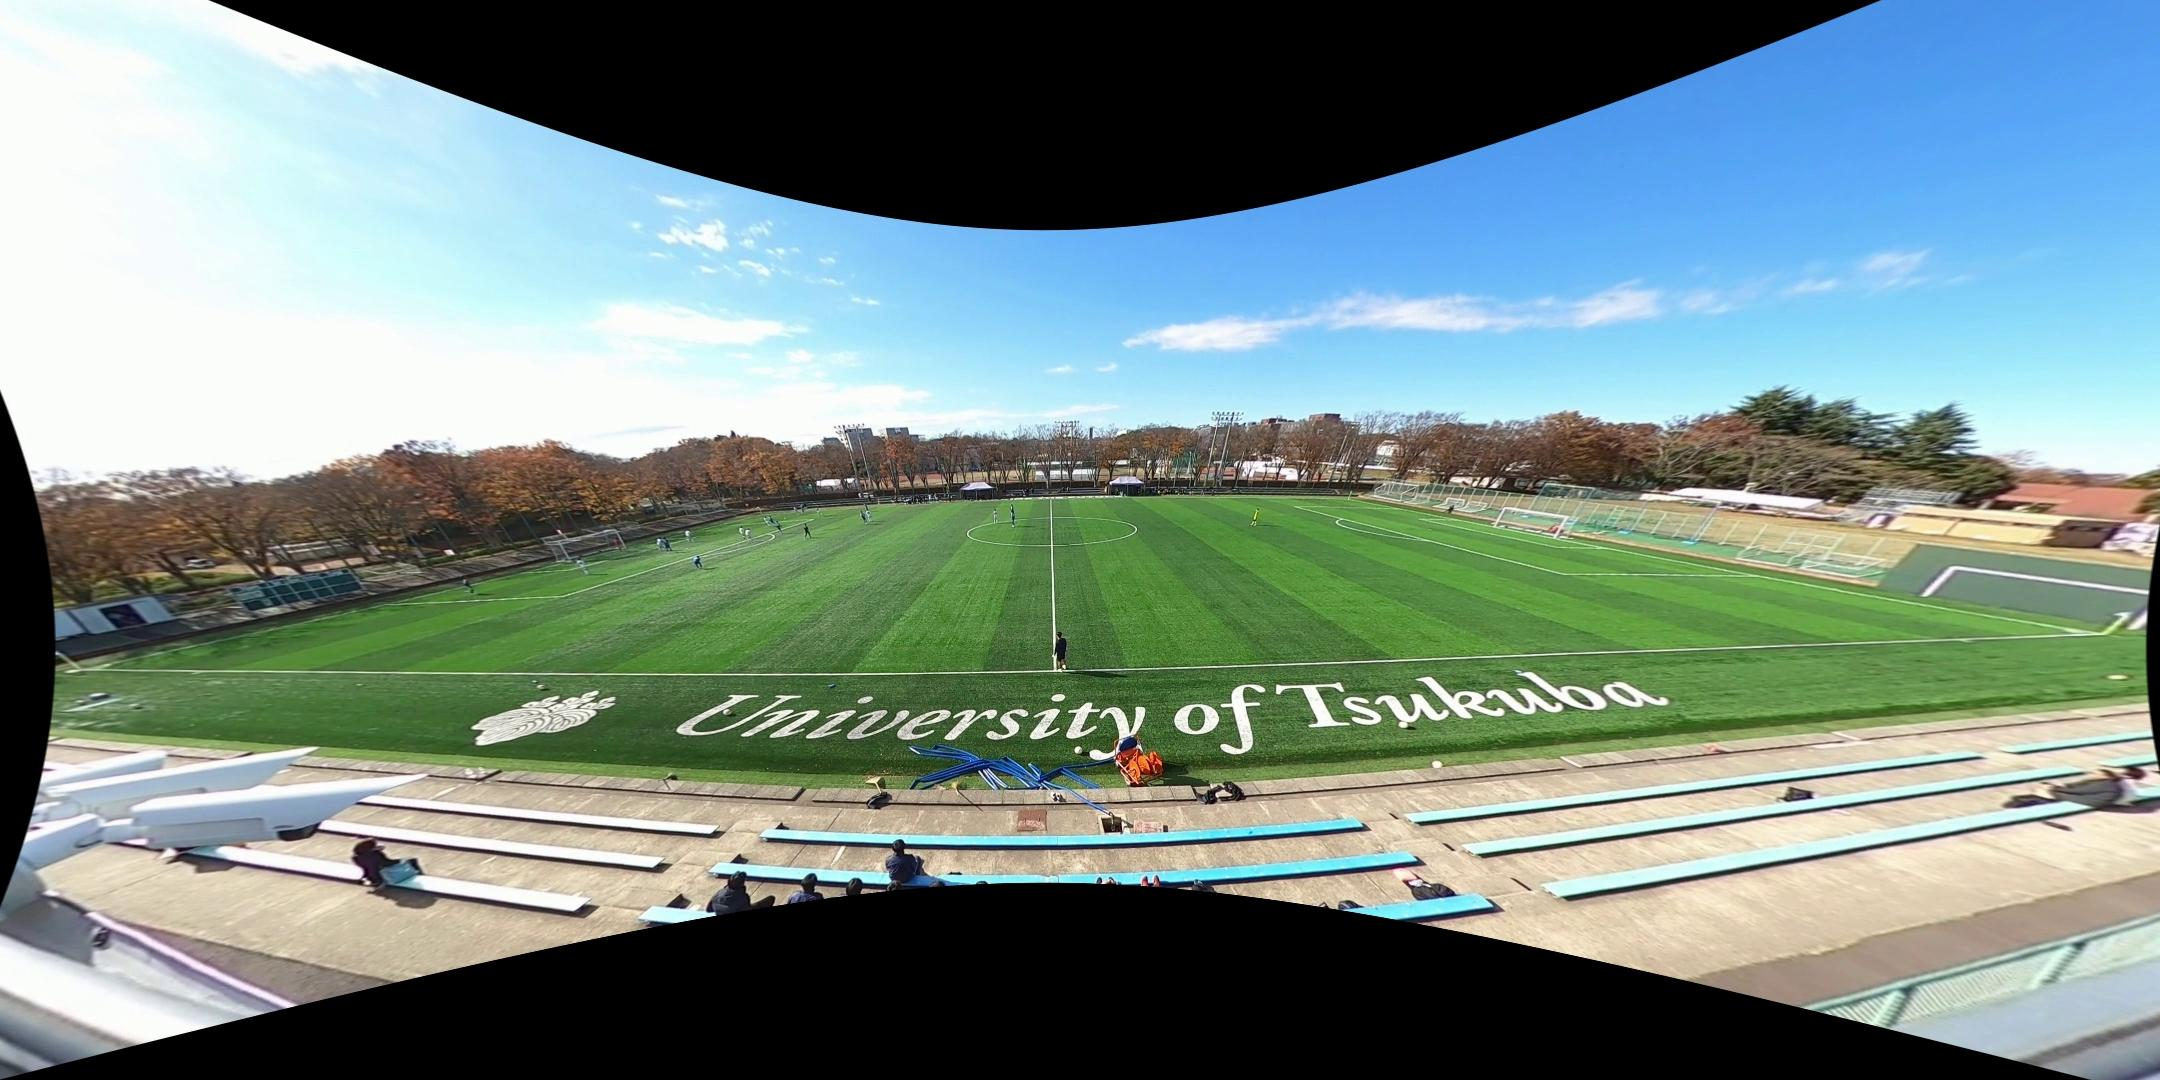person: (1051, 630, 1068, 673), (459, 573, 479, 599), (576, 555, 589, 576), (1251, 507, 1261, 527), (802, 523, 813, 540), (662, 537, 674, 552), (684, 529, 695, 545), (693, 554, 703, 571), (656, 536, 666, 552), (774, 520, 783, 536), (614, 537, 623, 553), (1009, 503, 1016, 523), (739, 526, 747, 543), (769, 515, 779, 528), (815, 505, 824, 518), (798, 503, 807, 516), (1010, 510, 1016, 529), (745, 528, 752, 544), (764, 516, 772, 530), (792, 505, 801, 517), (866, 508, 873, 523), (860, 511, 867, 525), (864, 504, 870, 518), (994, 508, 999, 523)
sports ball: (1431, 758, 1445, 770), (1397, 719, 1409, 731), (1073, 744, 1085, 756), (722, 707, 733, 717), (536, 683, 546, 693), (783, 517, 788, 520)
